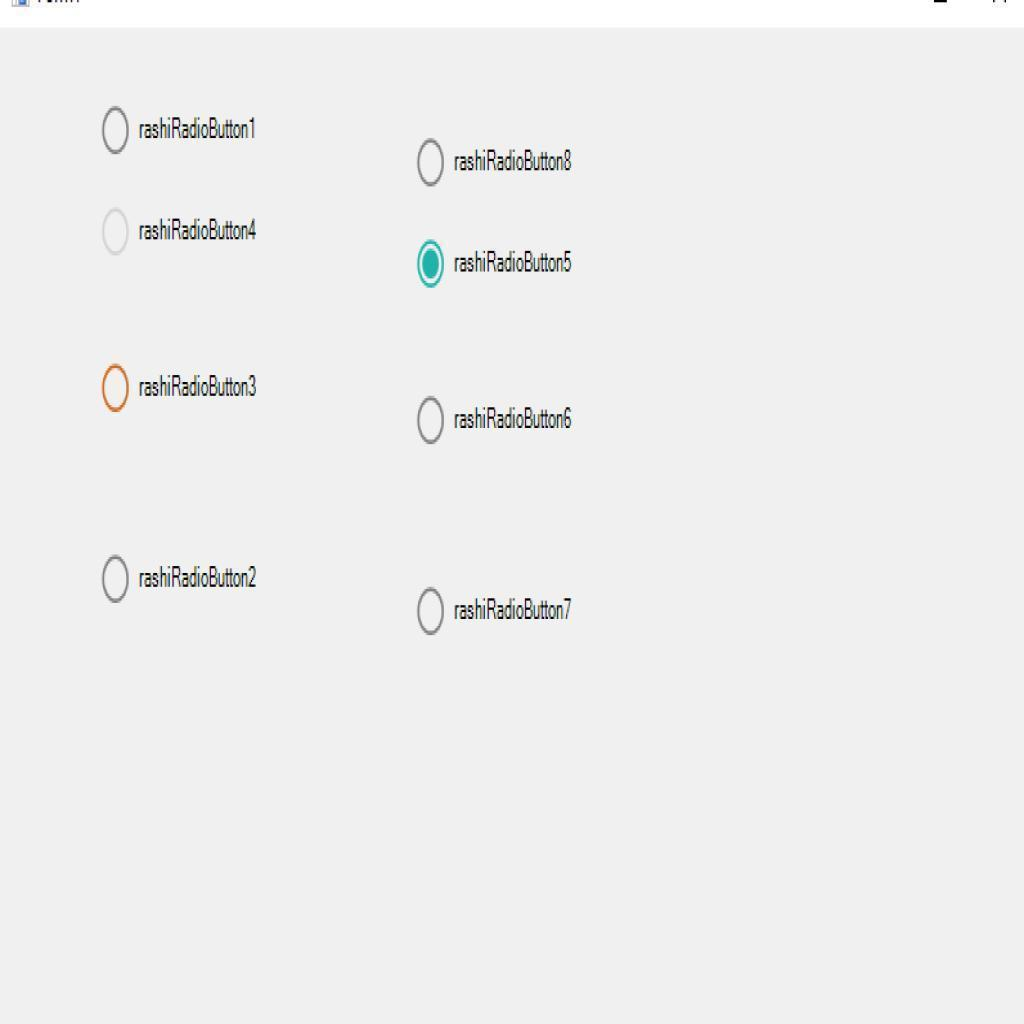radio: (98, 102, 132, 155), (98, 361, 131, 413), (414, 238, 447, 288), (99, 206, 132, 255), (415, 136, 446, 188), (417, 395, 447, 447), (101, 554, 131, 604), (416, 583, 443, 635)
